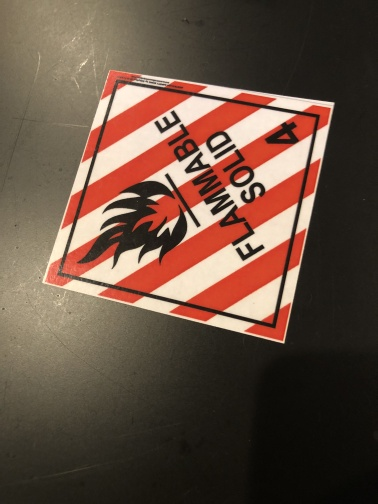FlammableSolid: (59, 74, 323, 335)
